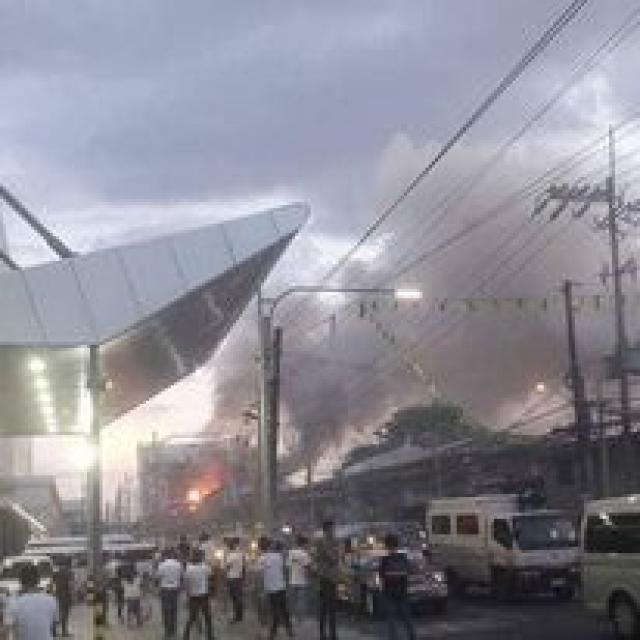Fire: (180, 473, 220, 508)
Smoke: (202, 276, 428, 485)
